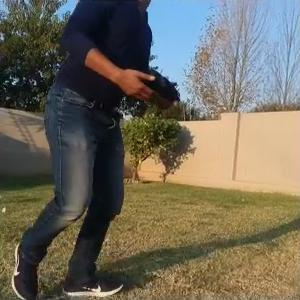follow: (8, 0, 183, 298)
